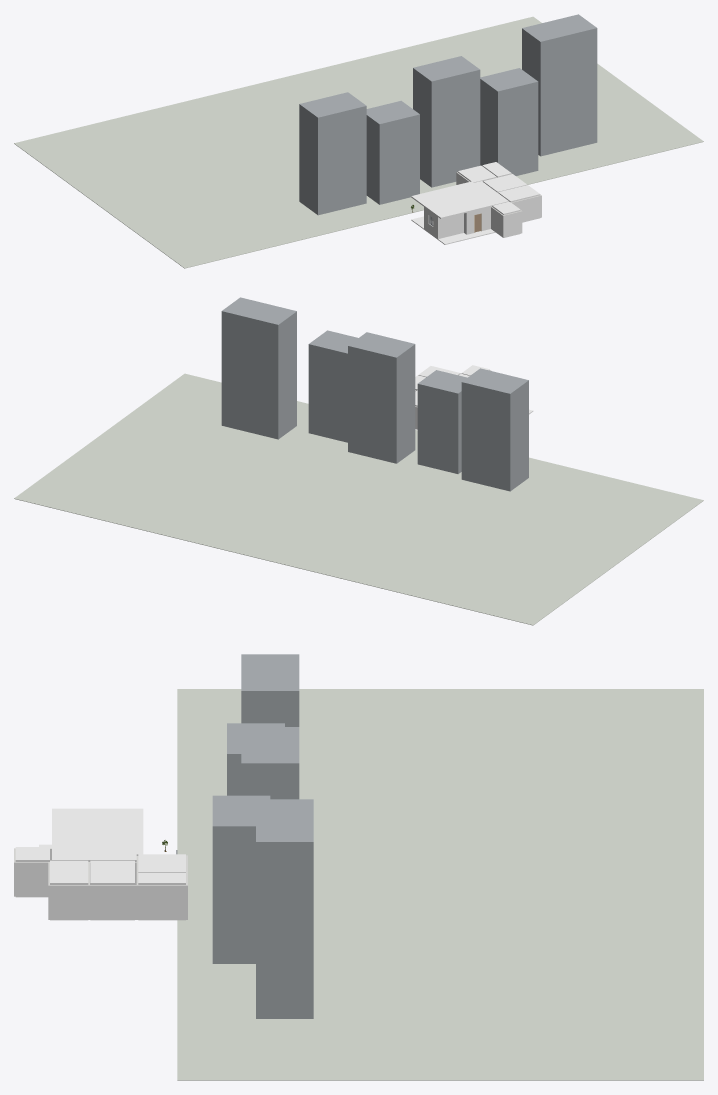
The model's file is staged-modern-noon2.glb.
The picture shows the model from 3 angles, top to bottom: view 1: azimuth 30°, elevation 25°; view 2: azimuth 150°, elevation 25°; view 3: azimuth 270°, elevation 25°; orthographic projection. The views are drawn at different scales.
Visible parts, largest first — view 1: ground, bldg3, bldg4, bldg1, BAKE_A, bldg2, bldg0; view 2: ground, bldg3, bldg1, bldg4, bldg0, bldg2, BAKE_A; view 3: ground, BAKE_A, bldg3, bldg2, bldg1, bldg4, bldg0.
Boxes of the visible parts, left/top/right/bottom form: ground: left=14, top=16, right=703, bottom=268; bldg3: left=522, top=14, right=597, bottom=156; bldg4: left=299, top=92, right=366, bottom=215; bldg1: left=413, top=56, right=480, bottom=187; BAKE_A: left=411, top=162, right=541, bottom=244; bldg2: left=480, top=68, right=538, bottom=175; bldg0: left=366, top=100, right=419, bottom=204; ground: left=14, top=373, right=703, bottom=625; bldg3: left=221, top=297, right=296, bottom=439; bldg1: left=348, top=332, right=415, bottom=463; bldg4: left=461, top=368, right=528, bottom=491; bldg0: left=417, top=370, right=466, bottom=473; bldg2: left=308, top=330, right=358, bottom=442; BAKE_A: left=415, top=365, right=533, bottom=429; ground: left=177, top=689, right=703, bottom=1080; BAKE_A: left=14, top=808, right=187, bottom=920; bldg3: left=256, top=799, right=313, bottom=1018; bldg2: left=212, top=795, right=270, bottom=963; bldg1: left=241, top=727, right=299, bottom=799; bldg4: left=241, top=654, right=299, bottom=726; bldg0: left=227, top=723, right=284, bottom=795.
Bounding box in the file's own units: 64 × 13.55 × 47.74.
Materials: 73 (16 with a texture image).
